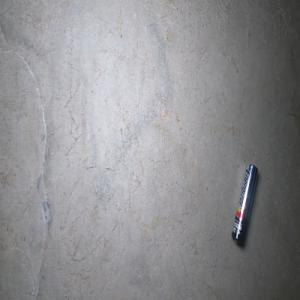Battery: (231, 163, 258, 247)
